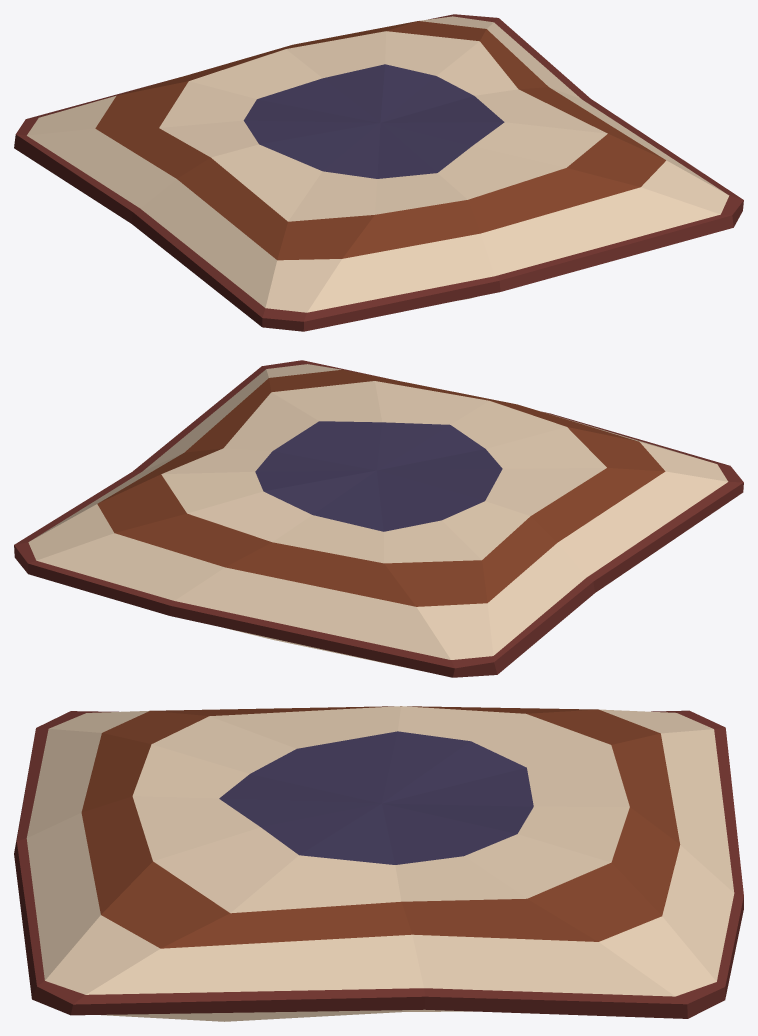
Rendered from SM_Prop_Pillow_03.fbx.
3 views of the same model, one above another, from view 1: azimuth 30°, elevation 25°; view 2: azimuth 150°, elevation 25°; view 3: azimuth 270°, elevation 25° (orthographic). The views are drawn at different scales.
Visible parts, largest first — view 1: SM_Prop_Pillow_03; view 2: SM_Prop_Pillow_03; view 3: SM_Prop_Pillow_03.
Part boxes in pixels (x1,y1,x2,y2): SM_Prop_Pillow_03: (14, 14, 743, 331); SM_Prop_Pillow_03: (14, 360, 743, 677); SM_Prop_Pillow_03: (14, 706, 743, 1021).
Size of the model in its own units: 80.93 by 17.26 by 84.82.
